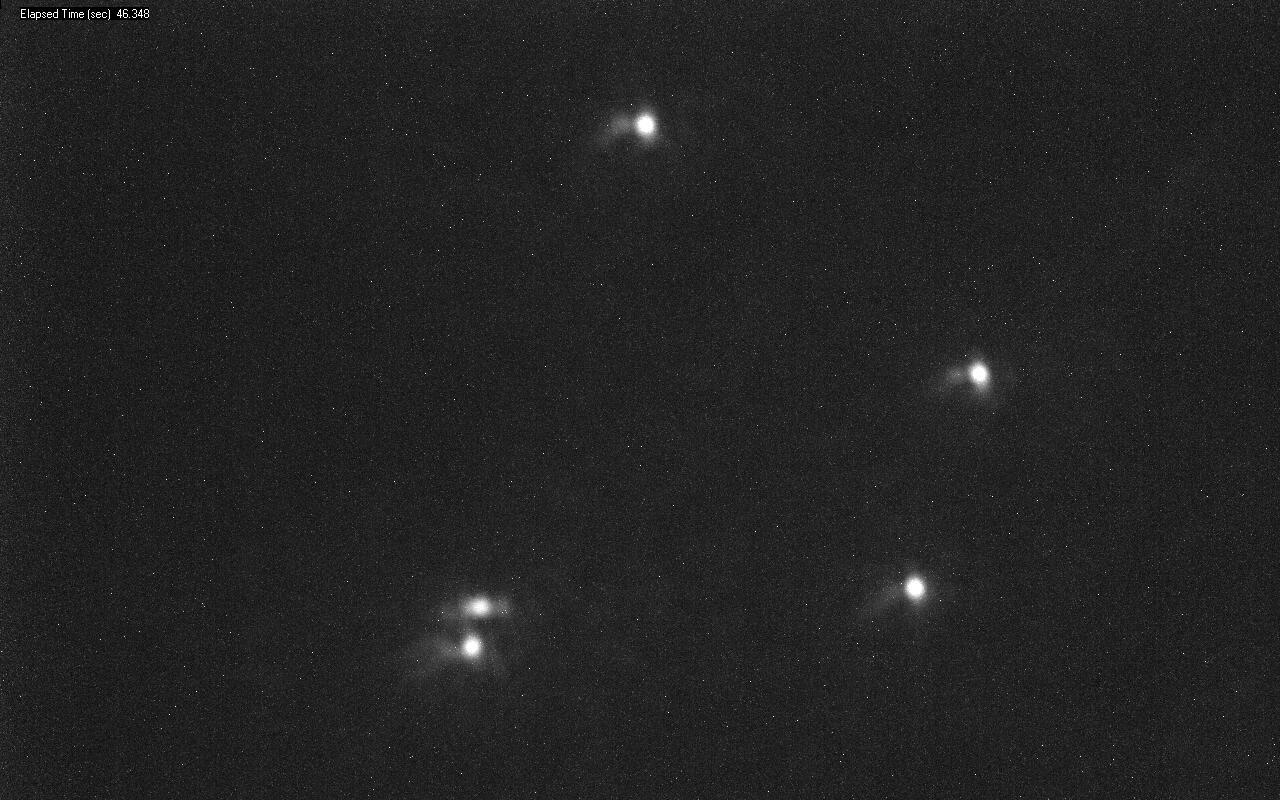Bead: (634, 112, 656, 140), (904, 575, 926, 601), (464, 637, 478, 655), (974, 369, 983, 376)
